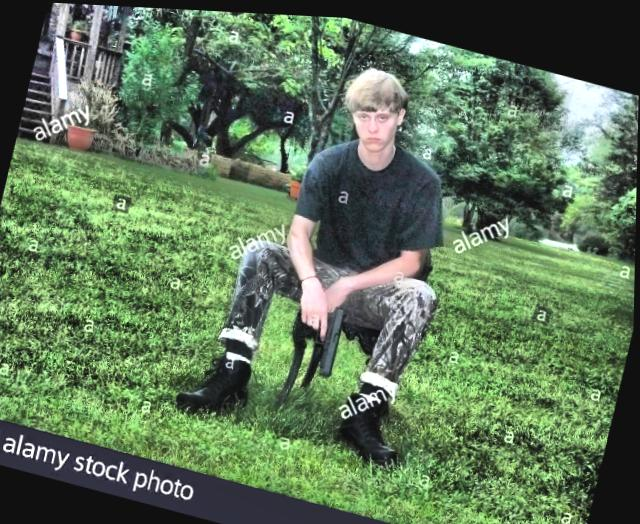pistol: (284, 292, 349, 375)
